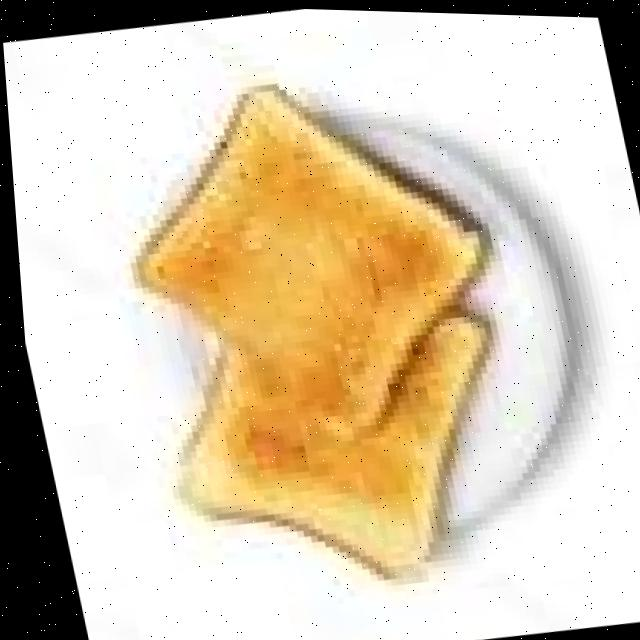Bread: (131, 85, 478, 438), (173, 312, 480, 574)
